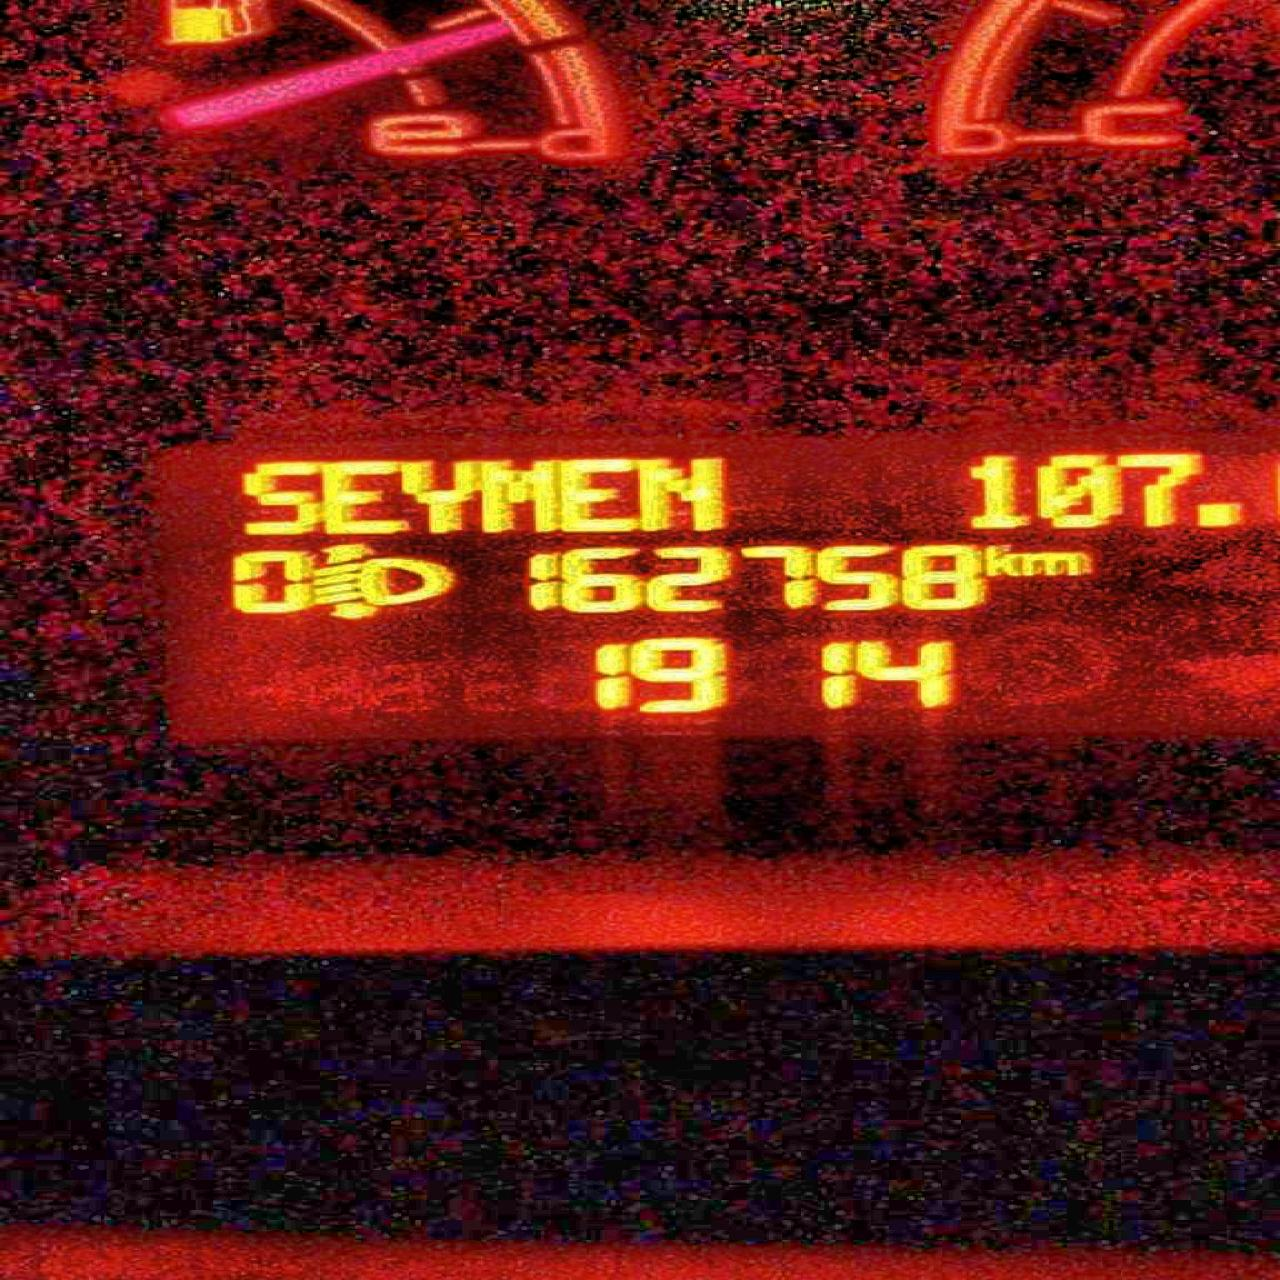-: (1186, 499, 1245, 529)
0: (1032, 450, 1116, 535), (225, 547, 312, 614)
1: (962, 450, 1029, 535), (811, 638, 858, 710), (588, 639, 633, 712), (520, 545, 558, 617)
2: (649, 543, 731, 613)
4: (858, 638, 953, 708)
5: (817, 543, 896, 613)
6: (558, 544, 640, 614)
7: (1118, 451, 1200, 527), (736, 544, 811, 610)
8: (903, 543, 978, 613)
9: (635, 635, 724, 713)
X: (635, 456, 722, 531), (556, 457, 635, 533), (318, 457, 395, 535), (476, 458, 553, 532), (243, 458, 315, 533), (397, 459, 471, 532), (1017, 549, 1091, 578), (980, 544, 1017, 577)
odometer: (147, 437, 1278, 742)
